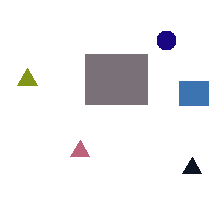circle: (157, 31, 175, 49)
rectangle: (85, 54, 147, 104), (179, 81, 208, 105)
triangle: (17, 68, 37, 85), (182, 157, 201, 173), (70, 140, 89, 156)
